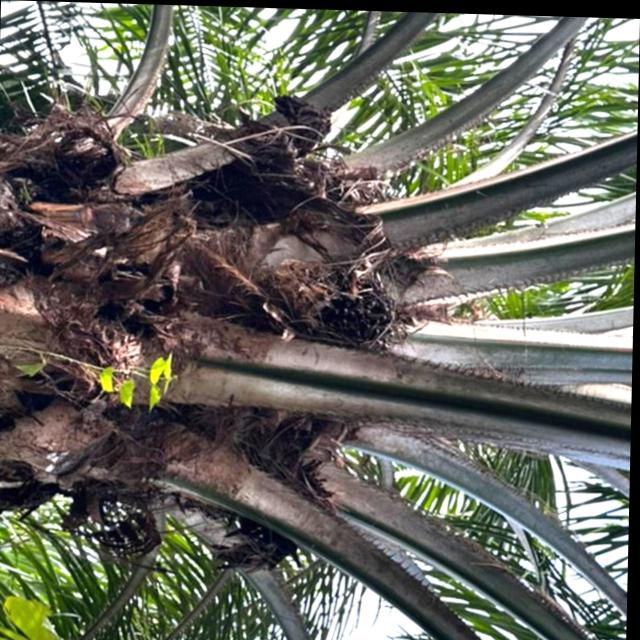unripe: (253, 236, 403, 365)
